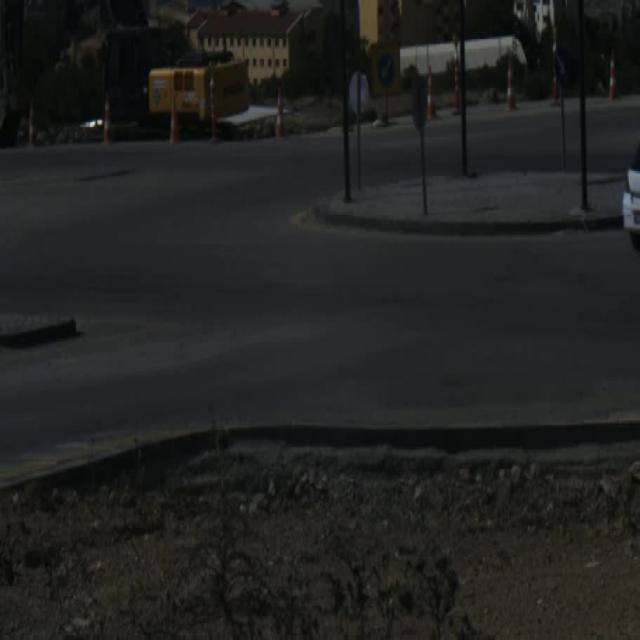Car: (619, 142, 640, 246)
